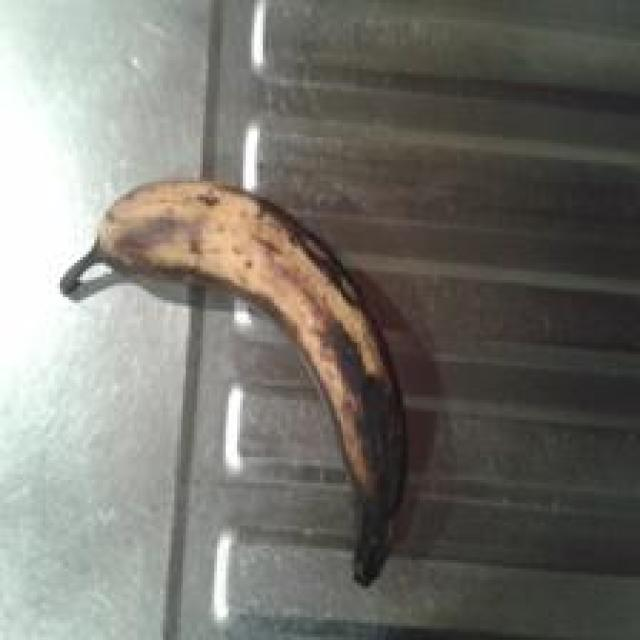Rotten_Banana: (81, 158, 422, 582)
